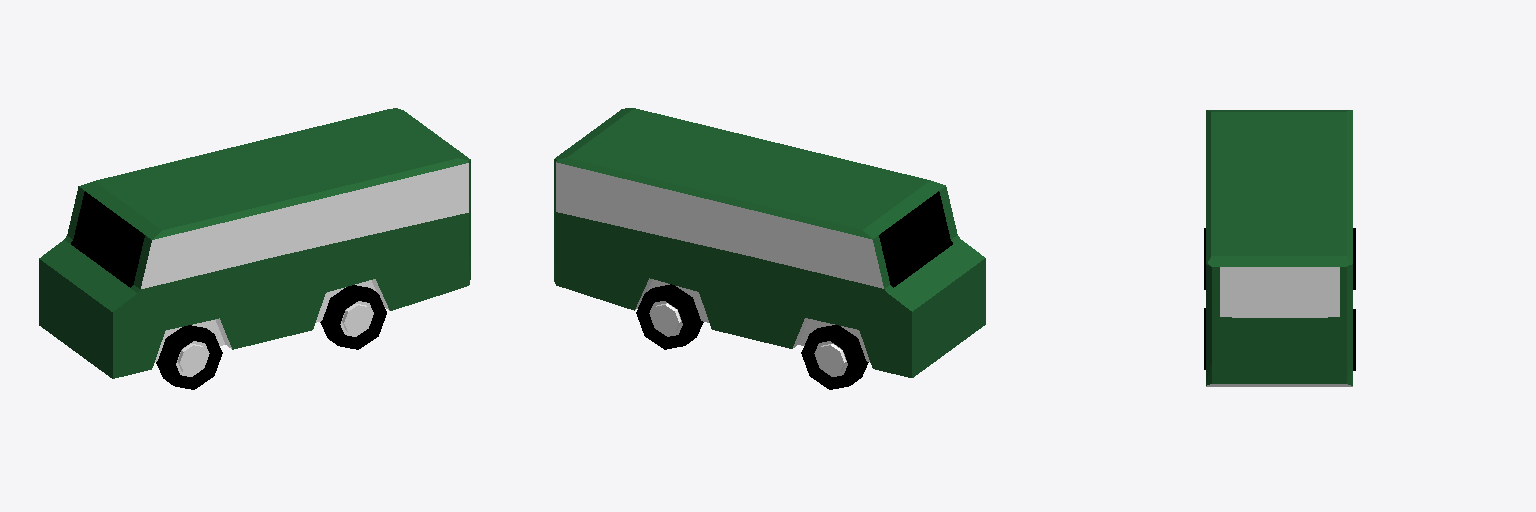
File: camion.obj
The picture shows the model from 3 angles: view 1: azimuth 30°, elevation 25°; view 2: azimuth 150°, elevation 25°; view 3: azimuth 270°, elevation 25°; orthographic projection.
Parts seen in each view (by area): view 1: camion; view 2: camion; view 3: camion.
Boxes of the visible parts, <box> form: camion: <box>39,108,470,389</box>; camion: <box>554,108,985,389</box>; camion: <box>1204,110,1355,386</box>.
Size of the model in its own units: 6.9 by 2.99 by 2.52.